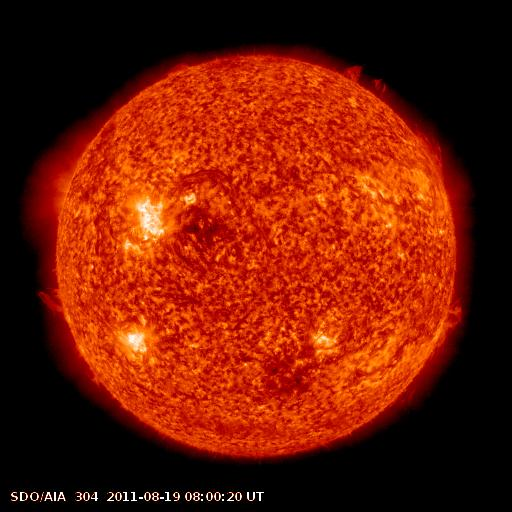prominence: (431, 276, 471, 362), (406, 120, 455, 183), (336, 57, 390, 102), (38, 277, 79, 328)
